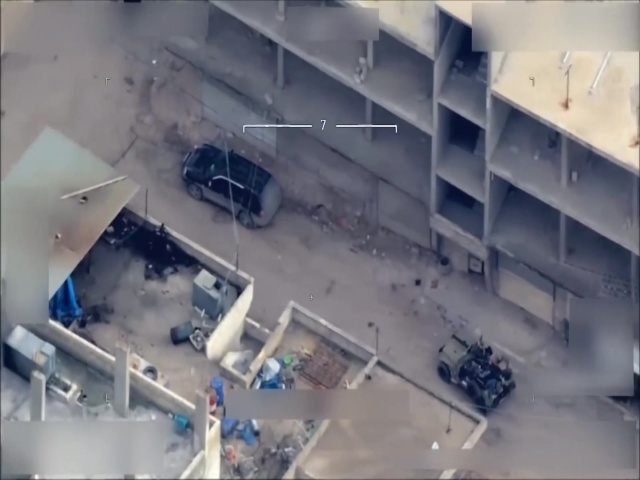vehicle: (178, 140, 287, 230), (437, 331, 518, 413)
